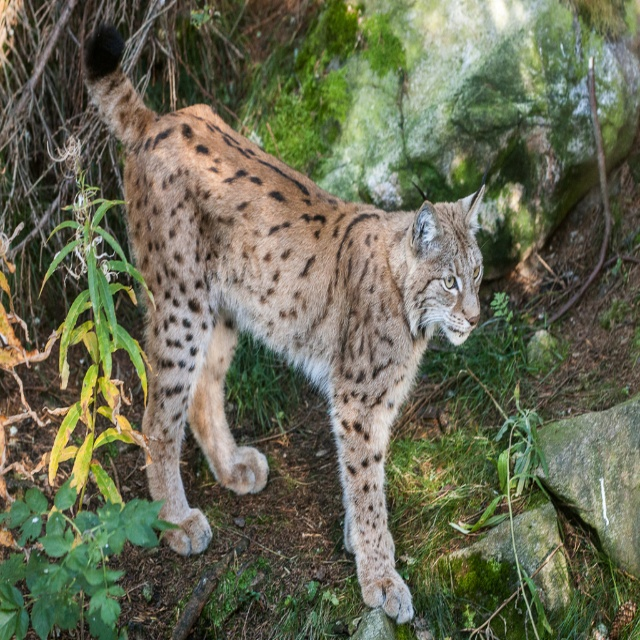Lynx: (81, 23, 490, 625)
